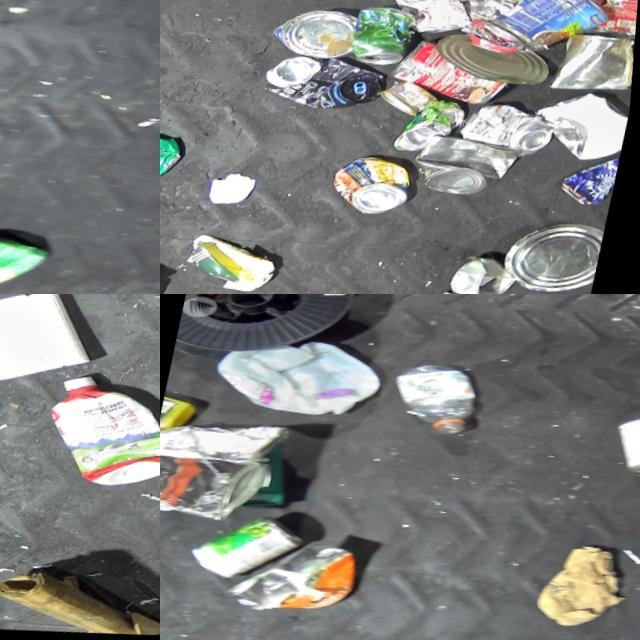can: (224, 527, 372, 629), (390, 37, 522, 126), (188, 504, 316, 595), (488, 0, 623, 78), (263, 49, 394, 128), (413, 134, 532, 216), (435, 33, 562, 106), (503, 224, 613, 294), (460, 105, 565, 176), (332, 156, 423, 230), (552, 37, 640, 111), (271, 6, 365, 72), (351, 11, 424, 80), (387, 0, 483, 51), (398, 103, 473, 168), (561, 158, 628, 223), (0, 230, 64, 294), (577, 0, 640, 56), (381, 83, 446, 132), (457, 261, 529, 294), (611, 418, 640, 492), (160, 125, 191, 190), (520, 0, 586, 17), (574, 294, 636, 301)
milk_jug: (205, 323, 393, 437)
non_white_jug: (41, 367, 160, 505)
plastic_bottle: (385, 360, 488, 450)
